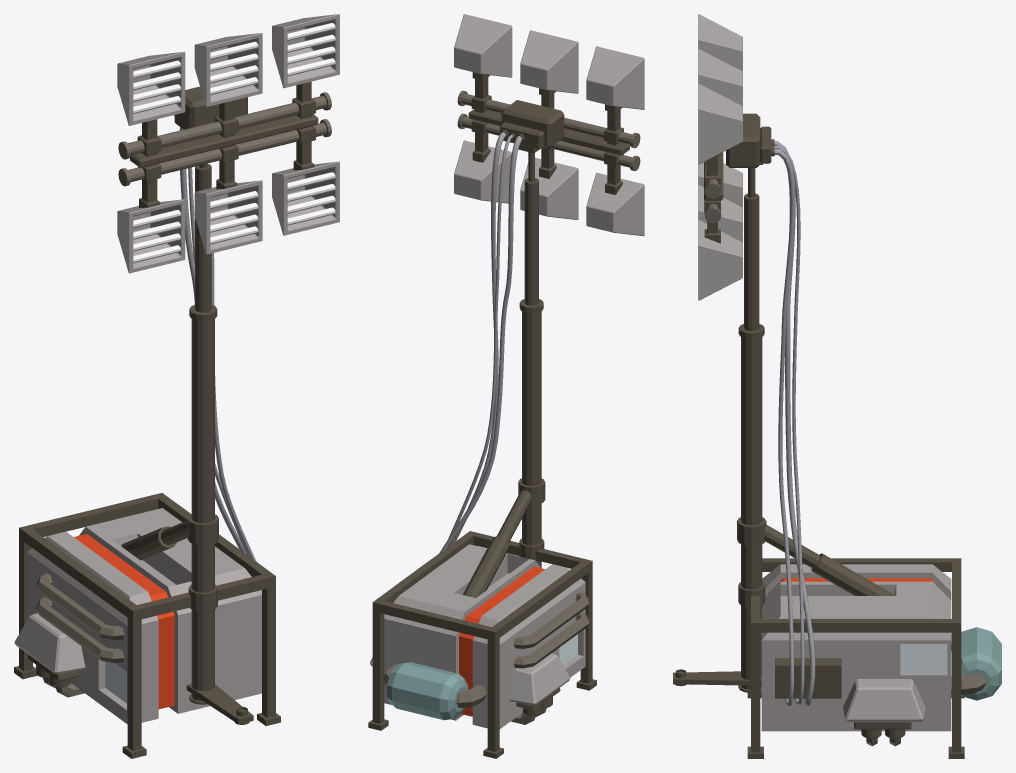
Rendered from Generator_Light_02.fbx.
3 renders of one model, left to right at view 1: azimuth 30°, elevation 25°; view 2: azimuth 150°, elevation 25°; view 3: azimuth 270°, elevation 25°, orthographic. The views are drawn at different scales.
Parts seen in each view (by area): view 1: Generator_Light_02; view 2: Generator_Light_02; view 3: Generator_Light_02.
Boxes of the visible parts, x1,y1,x2,y2 form: Generator_Light_02: (14, 14, 339, 758); Generator_Light_02: (368, 14, 644, 758); Generator_Light_02: (673, 14, 1001, 758).
Bounding box in the file's own units: 550 × 1791 × 803.
2 materials, 2 textured.
